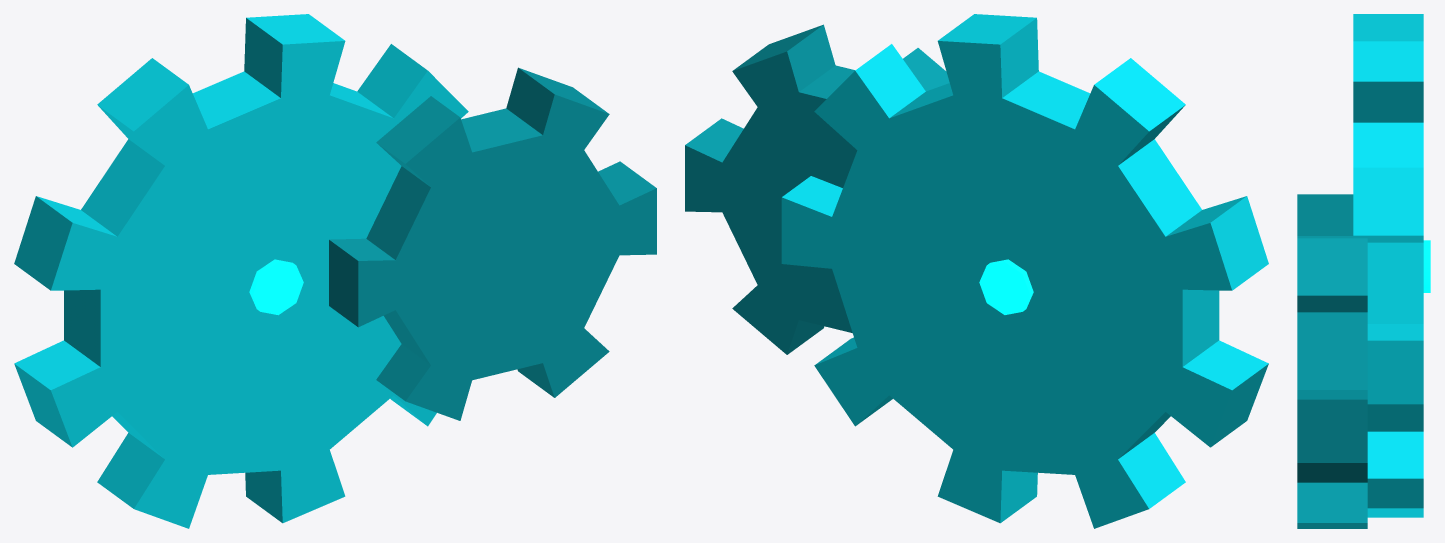
File: engranajes_bronce.glb
3 views of the same model, side by side, from view 1: azimuth 30°, elevation 25°; view 2: azimuth 150°, elevation 25°; view 3: azimuth 270°, elevation 25° (orthographic). The views are drawn at different scales.
Parts seen in each view (by area): view 1: Body, Detail, Glow; view 2: Body, Detail, Glow; view 3: Body, Detail, Glow.
Boxes of the visible parts, x1,y1,x2,y2 form: Body: [14, 14, 468, 528]; Detail: [329, 67, 656, 420]; Glow: [249, 259, 303, 315]; Body: [781, 14, 1268, 528]; Detail: [685, 24, 949, 354]; Glow: [979, 259, 1033, 314]; Body: [1353, 14, 1423, 517]; Detail: [1297, 194, 1367, 528]; Glow: [1423, 240, 1430, 292].
Bounding box in the file's own units: 0.4534 × 0.3598 × 0.095.
